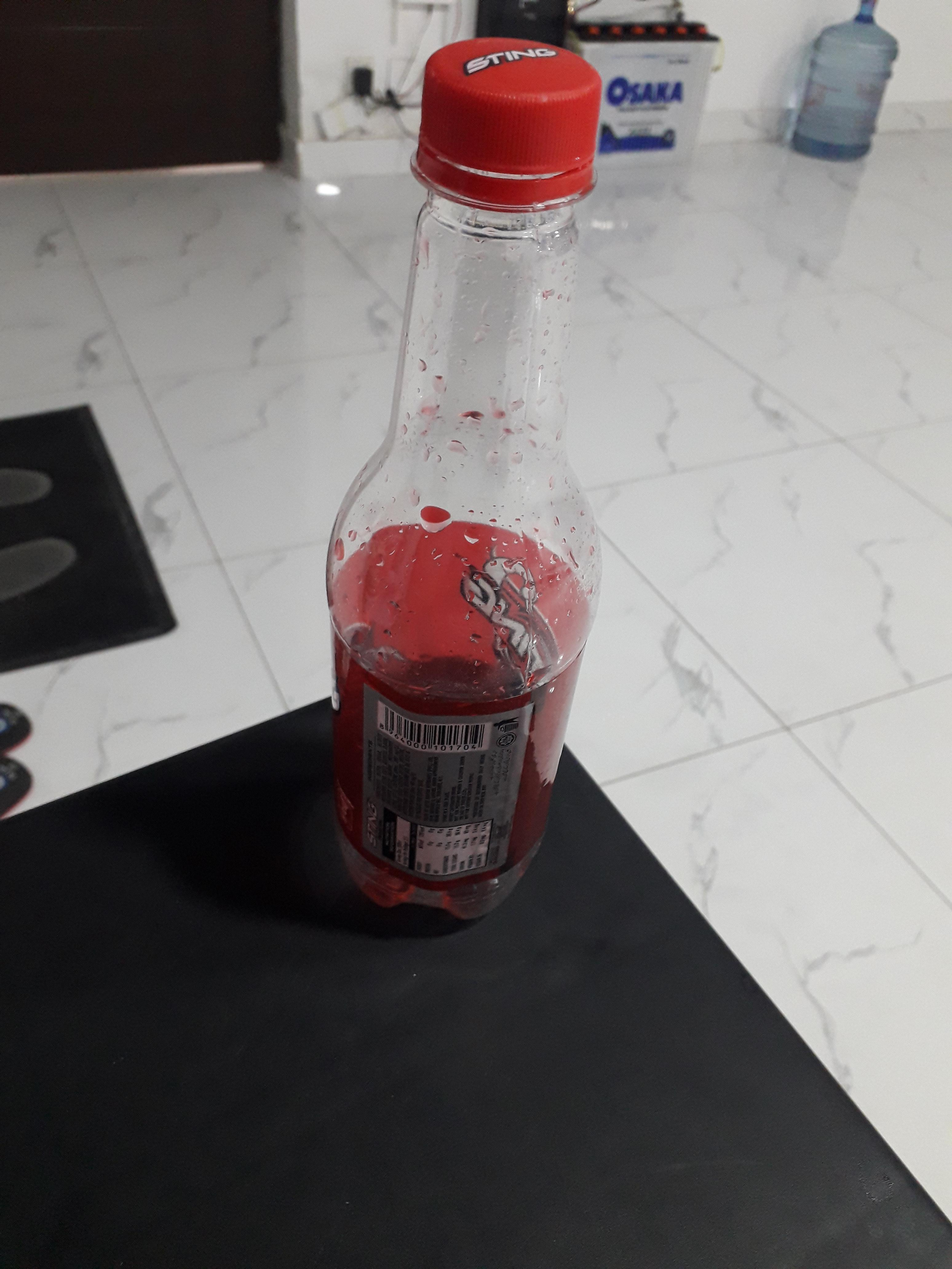bottle-plastic: (324, 26, 606, 919)
